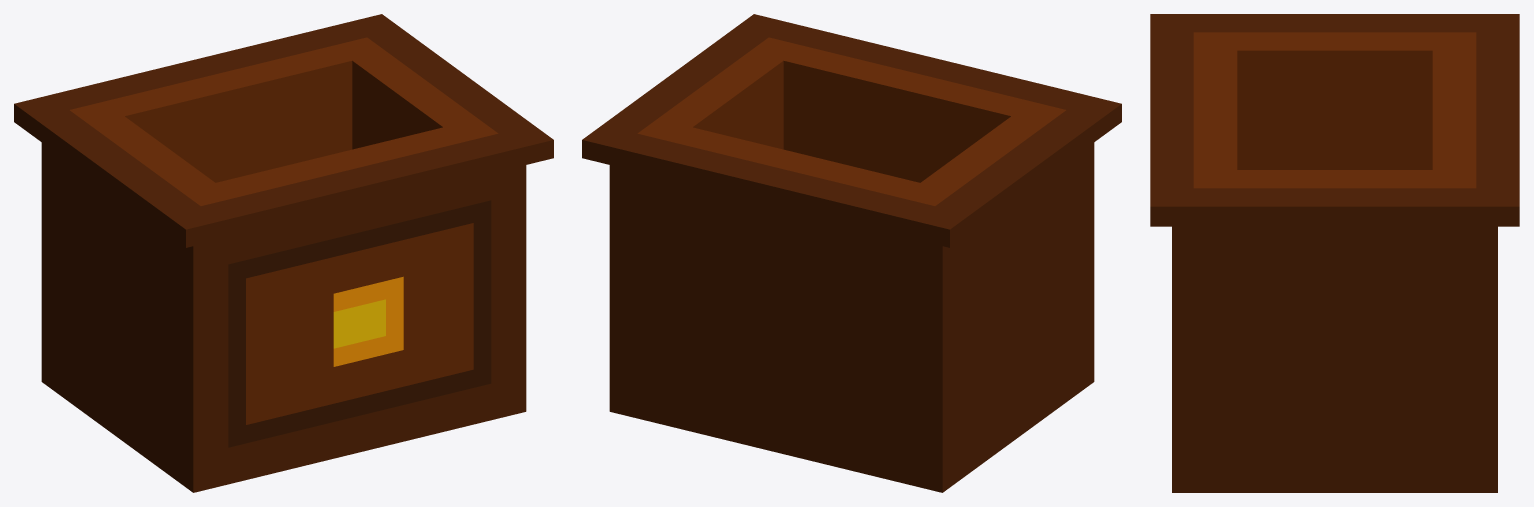
The model's file is generatorCheese.obj.
3 renders of one model, left to right at view 1: azimuth 30°, elevation 25°; view 2: azimuth 150°, elevation 25°; view 3: azimuth 270°, elevation 25°, orthographic. The views are drawn at different scales.
Size of the model in its own units: 2.1 by 1.6 by 1.7.
